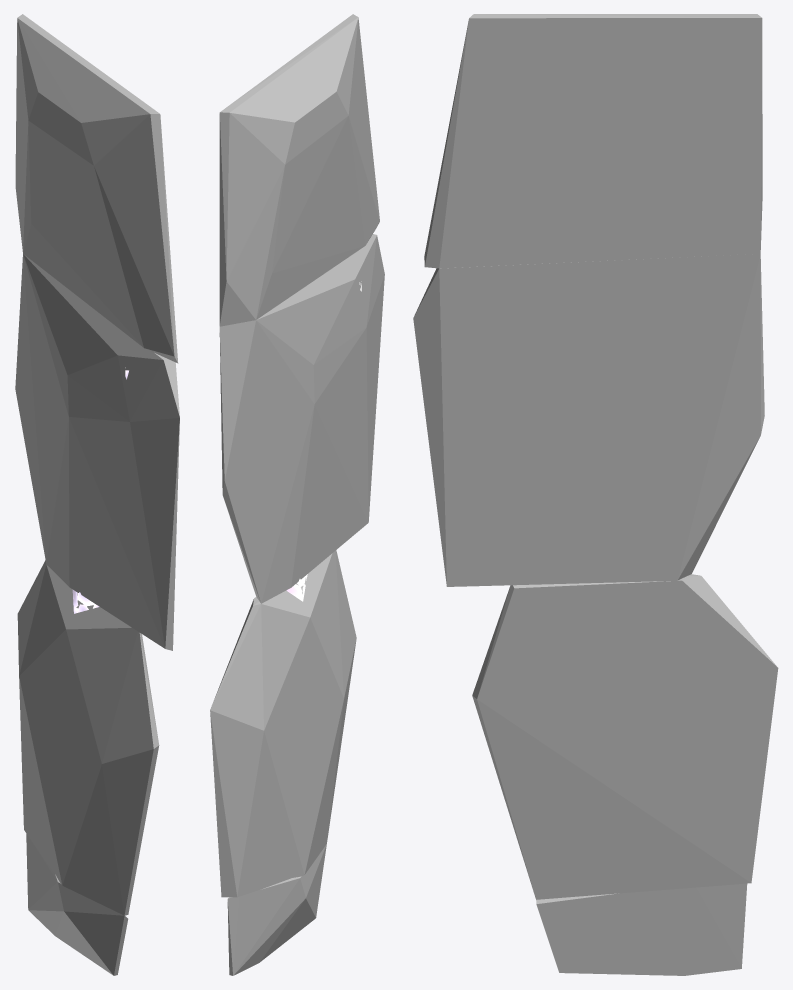
The model's file is SM_Env_Vines_Preset_Wall_04.fbx.
3 views of the same model, side by side, from view 1: azimuth 30°, elevation 25°; view 2: azimuth 150°, elevation 25°; view 3: azimuth 270°, elevation 25° (orthographic). The views are drawn at different scales.
Parts seen in each view (by area): view 1: SM_Env_Vines_Preset_Wall_04_ConvexHulls; view 2: SM_Env_Vines_Preset_Wall_04_ConvexHulls; view 3: SM_Env_Vines_Preset_Wall_04_ConvexHulls.
Boxes of the visible parts, x1,y1,x2,y2 form: SM_Env_Vines_Preset_Wall_04_ConvexHulls: (15,14,179,975); SM_Env_Vines_Preset_Wall_04_ConvexHulls: (210,14,384,975); SM_Env_Vines_Preset_Wall_04_ConvexHulls: (413,14,778,975).
Bounding box in the file's own units: 11.22 × 97.48 × 282.
3 materials, 2 textured.
